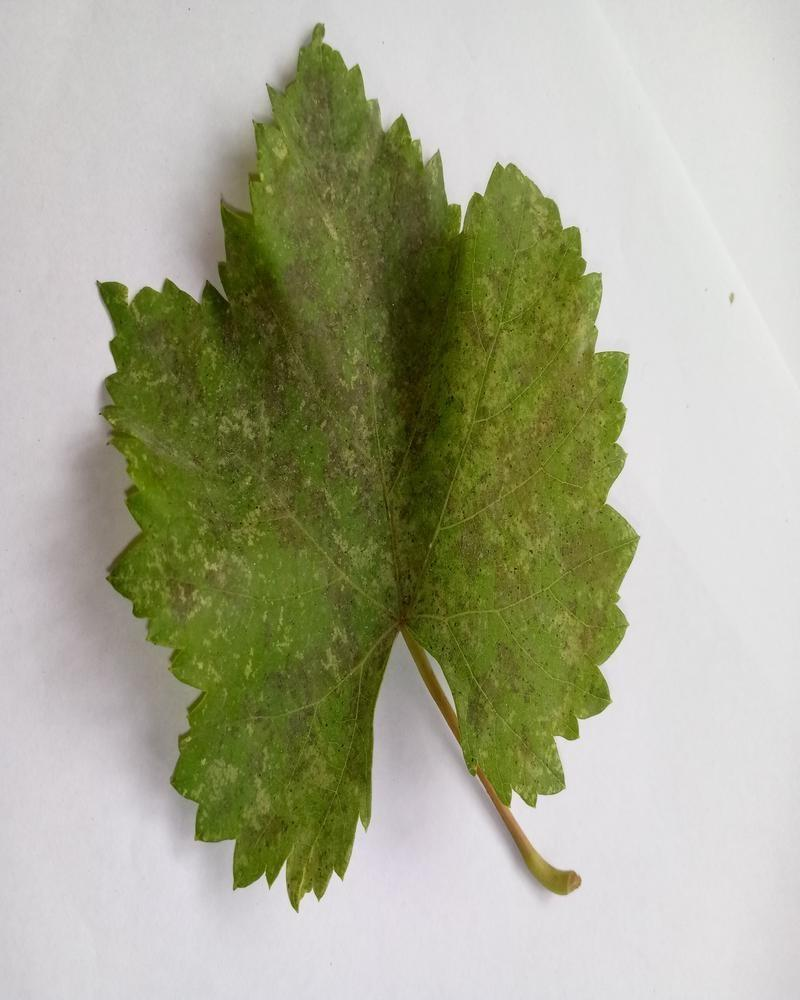Powdery-Mildew: (205, 272, 390, 537), (471, 383, 611, 658), (200, 608, 348, 833), (474, 181, 598, 364), (283, 53, 391, 230), (115, 301, 196, 398)
